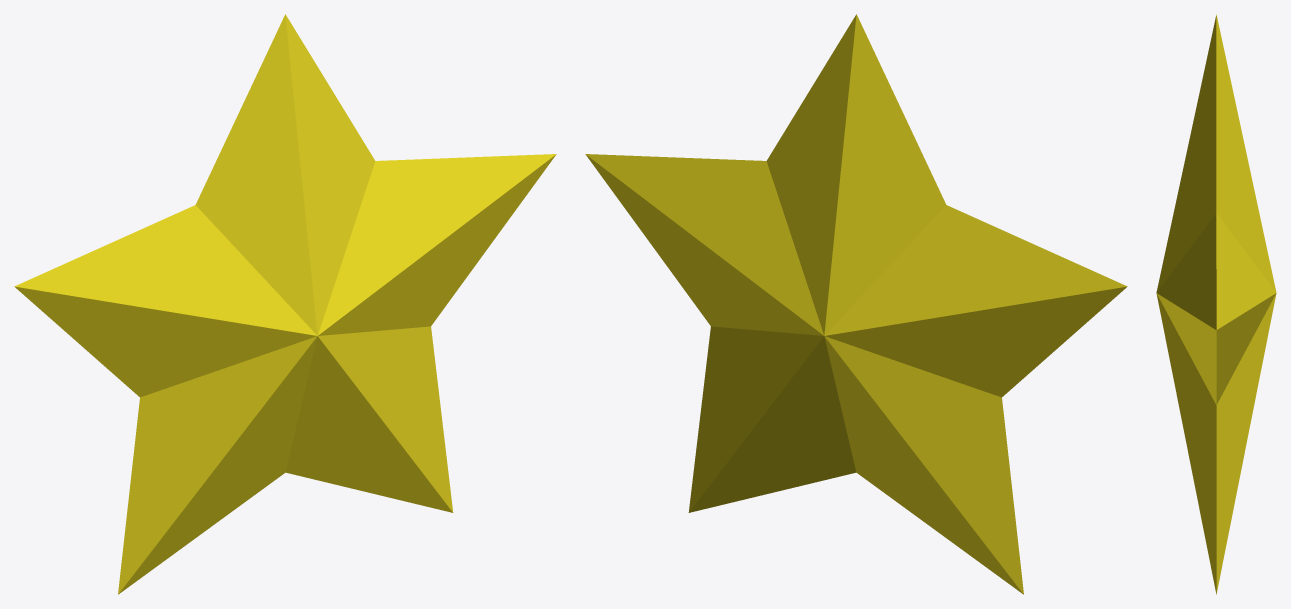
File: wudi.FBX
3 renders of one model, left to right at view 1: azimuth 30°, elevation 25°; view 2: azimuth 150°, elevation 25°; view 3: azimuth 270°, elevation 25°, orthographic. The views are drawn at different scales.
Visible parts, largest first — view 1: Star001; view 2: Star001; view 3: Star001.
Boxes of the visible parts, bbox=[...] form: Star001: bbox=[14, 14, 556, 594]; Star001: bbox=[585, 14, 1127, 594]; Star001: bbox=[1156, 14, 1276, 594].
Size of the model in its own units: 26.01 by 24.74 by 5.34.
